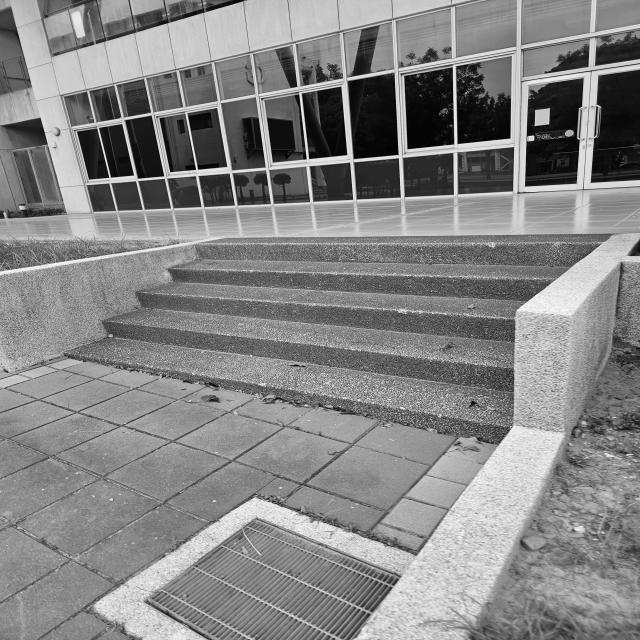Road-Object: (1, 359, 495, 640), (0, 187, 640, 241)
floor: (66, 234, 610, 443)
